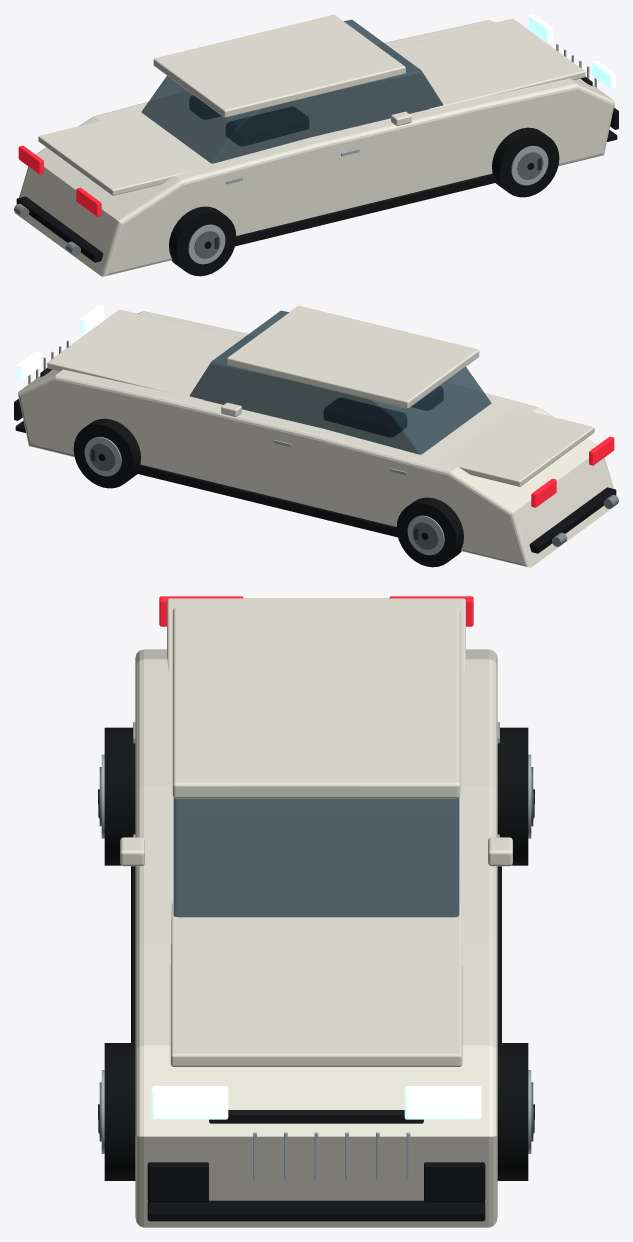
The model's file is rr_phantom_vii_ewb.glb.
3 views of the same model, one above another, from view 1: azimuth 30°, elevation 25°; view 2: azimuth 150°, elevation 25°; view 3: azimuth 270°, elevation 25° (orthographic). The views are drawn at different scales.
Visible parts, largest first — view 1: sculpted_body, roof, glasshouse, hood_center, rear_deck, side_skirt_1, rear_right_wheel_tire, front_right_wheel_tire, seat_1, rear_diffuser, rear_right_wheel_rim, front_right_wheel_rim (+7 smaller); view 2: sculpted_body, roof, glasshouse, hood_center, rear_deck, side_skirt_-1, rear_left_wheel_tire, front_left_wheel_tire, seat_-1, rear_diffuser, rear_left_wheel_rim, front_left_wheel_rim (+7 smaller); view 3: sculpted_body, roof, hood_center, glasshouse, front_splitter, front_left_wheel_tire, front_right_wheel_tire, rear_left_wheel_tire, rear_right_wheel_tire, rear_deck, front_grille, headlight_left (+5 smaller).
Boxes of the visible parts, x1,y1,x2,y2 form: sculpted_body: (15, 20, 614, 276); roof: (153, 15, 405, 117); glasshouse: (141, 19, 443, 163); hood_center: (384, 18, 585, 109); rear_deck: (38, 117, 191, 195); side_skirt_1: (235, 173, 496, 246); rear_right_wheel_tire: (169, 206, 236, 276); front_right_wheel_tire: (492, 127, 559, 197); seat_1: (226, 107, 308, 145); rear_diffuser: (16, 196, 103, 262); rear_right_wheel_rim: (188, 224, 225, 264); front_right_wheel_rim: (511, 146, 548, 185); sculpted_body: (18, 311, 617, 567); roof: (227, 306, 479, 408); glasshouse: (189, 310, 491, 454); hood_center: (47, 309, 248, 400); rear_deck: (441, 408, 594, 486); side_skirt_-1: (136, 464, 397, 537); rear_left_wheel_tire: (396, 497, 463, 567); front_left_wheel_tire: (73, 418, 140, 488); seat_-1: (324, 398, 406, 436); rear_diffuser: (529, 487, 616, 553); rear_left_wheel_rim: (407, 515, 444, 555); front_left_wheel_rim: (84, 437, 121, 476); sculpted_body: (135, 649, 497, 1227); roof: (172, 608, 460, 798); hood_center: (170, 903, 462, 1066); glasshouse: (173, 798, 459, 917); front_splitter: (147, 1200, 485, 1221); front_left_wheel_tire: (497, 1043, 528, 1180); front_right_wheel_tire: (104, 1043, 135, 1180); rear_left_wheel_tire: (497, 727, 528, 865); rear_right_wheel_tire: (104, 727, 135, 865); rear_deck: (167, 598, 465, 675); front_grille: (209, 1110, 423, 1123); headlight_left: (404, 1086, 481, 1119).
Size of the model in its own units: 6.48 by 1.65 by 2.28.
